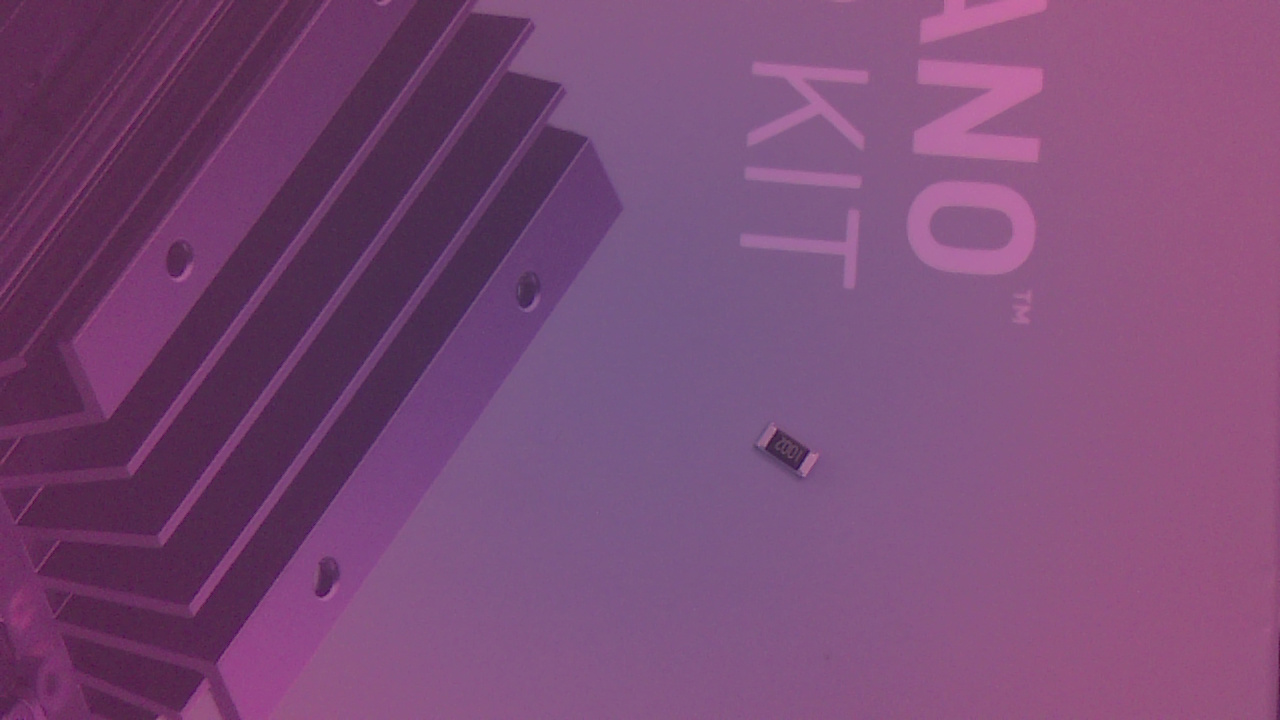Resistor: (751, 420, 831, 494)
